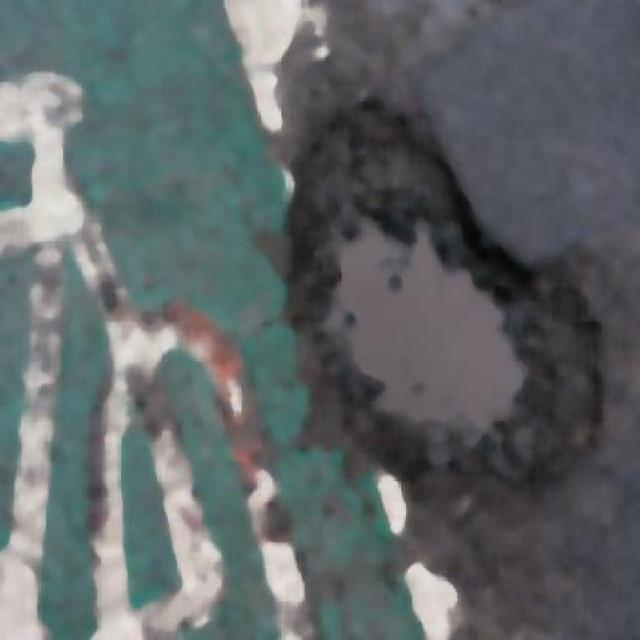Pothole: (307, 83, 538, 477)
